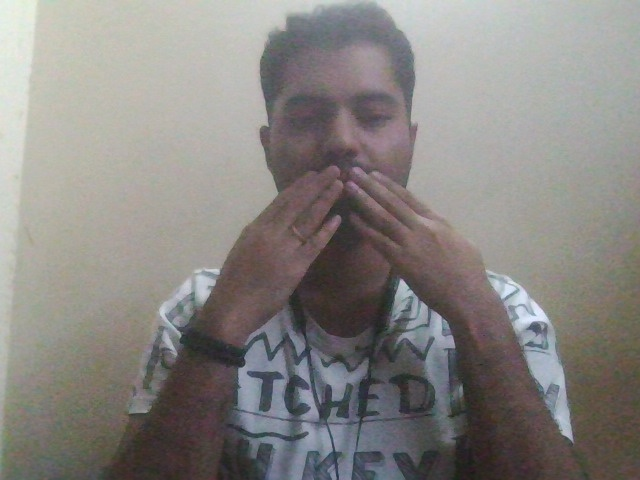Y: (183, 168, 559, 336)
